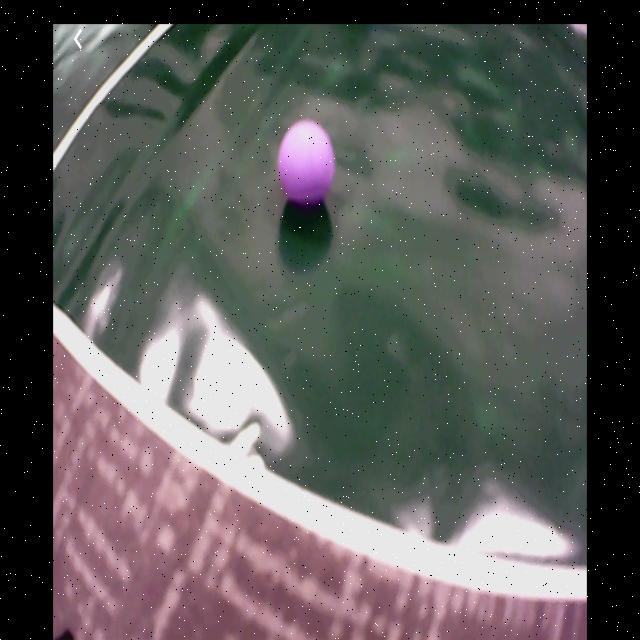ball: (280, 121, 335, 207)
